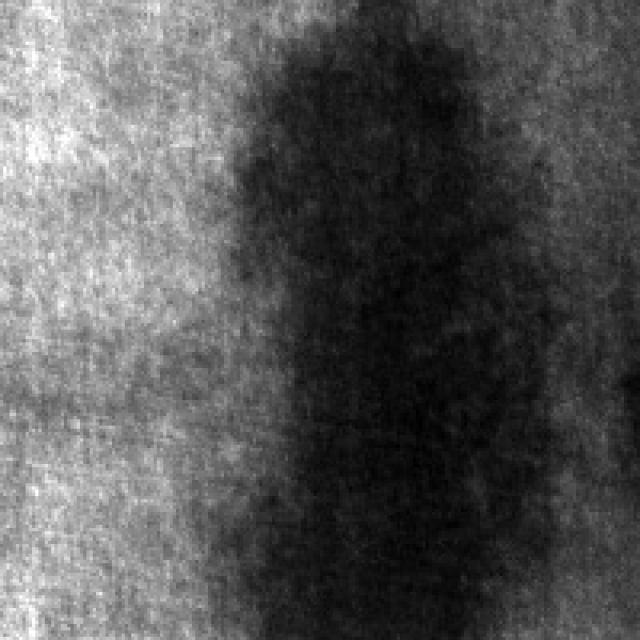patches: (250, 35, 540, 630)
